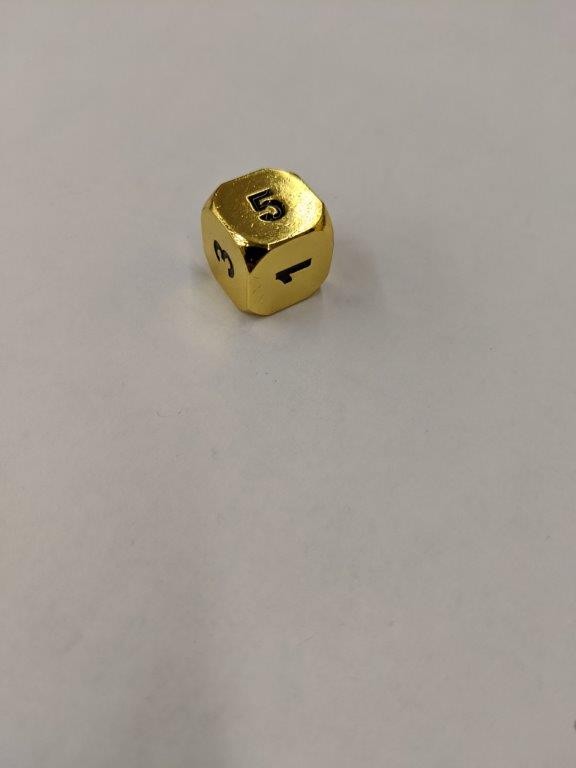d6-5: (199, 166, 333, 319)
